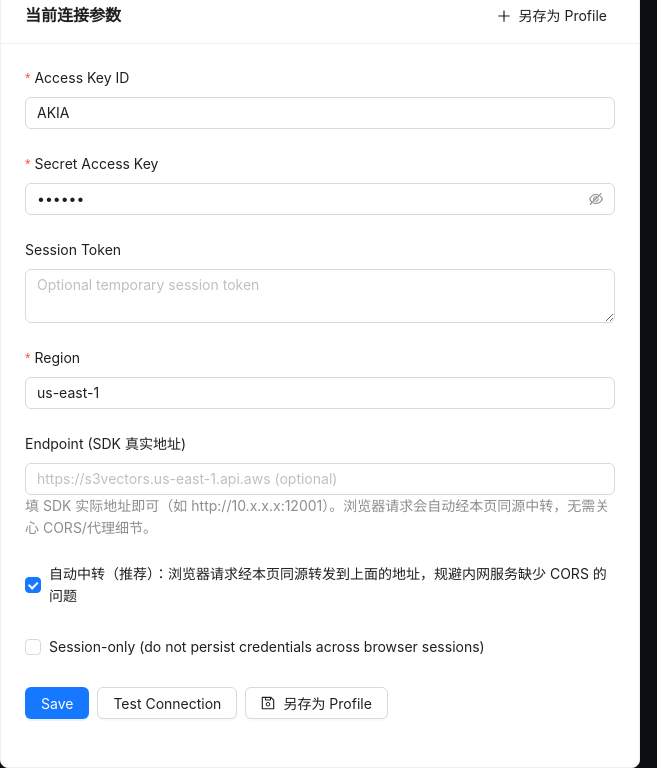
Test: Settings page › shows friendly AWS error on connection test failure
(page scrolled)
Click the button "Test Connection": (167, 703) [97, 687, 237, 719]
(page scrolled)
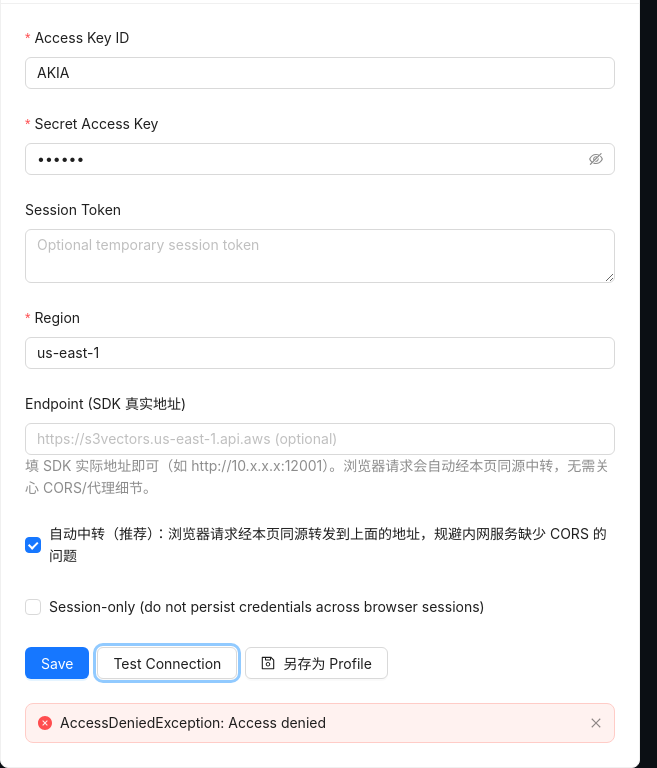
Expected: the text "AccessDeniedException: Access denied" is shown, [60, 714, 326, 731]
